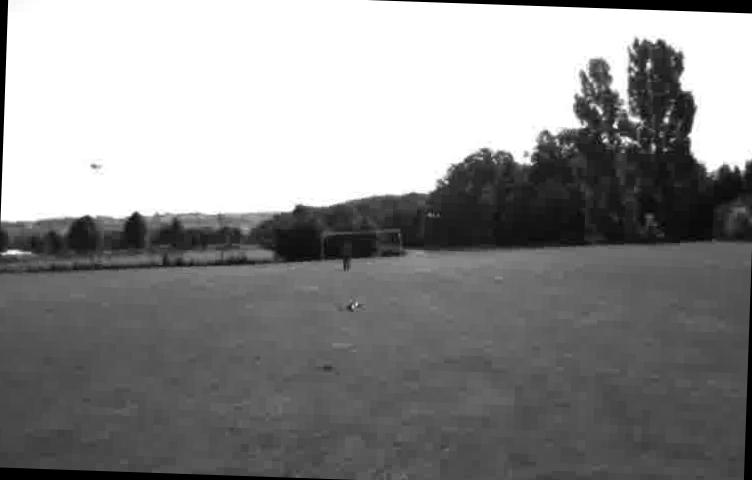drone: (339, 292, 364, 314)
